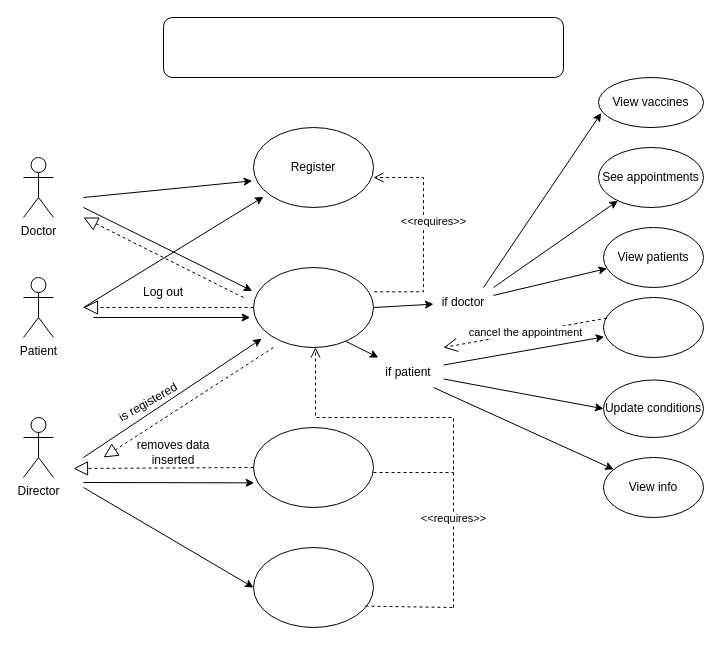
Some shapes in this 721 by 645 pixel diagram are drawn without their labels. Here are the shapes that lost their labels. From the top down, the box of each, then its label:
(162, 16, 564, 78): USE CASE DIAGRAM
(252, 266, 374, 348): Log in
(602, 296, 704, 358): Set an appointment
(252, 426, 374, 508): Inserts data
(252, 546, 374, 628): Assigns conditions to a vaccine
